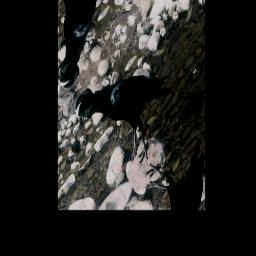Crow: (70, 19, 187, 196)
